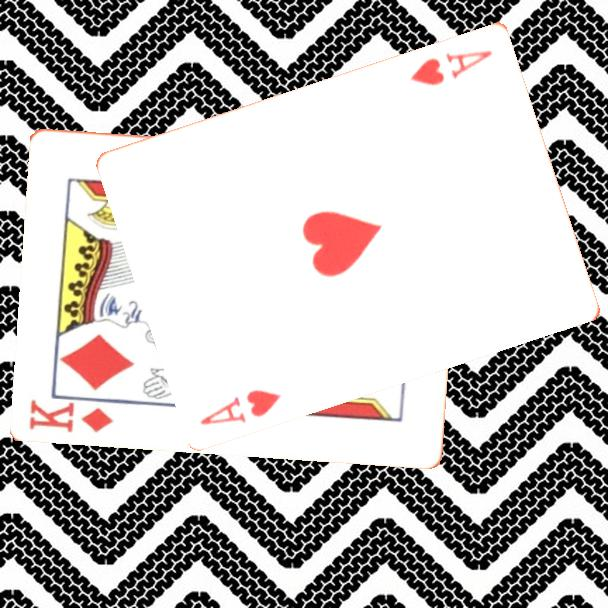d13: (26, 396, 117, 435)
h01: (406, 45, 496, 88), (196, 385, 284, 428)
